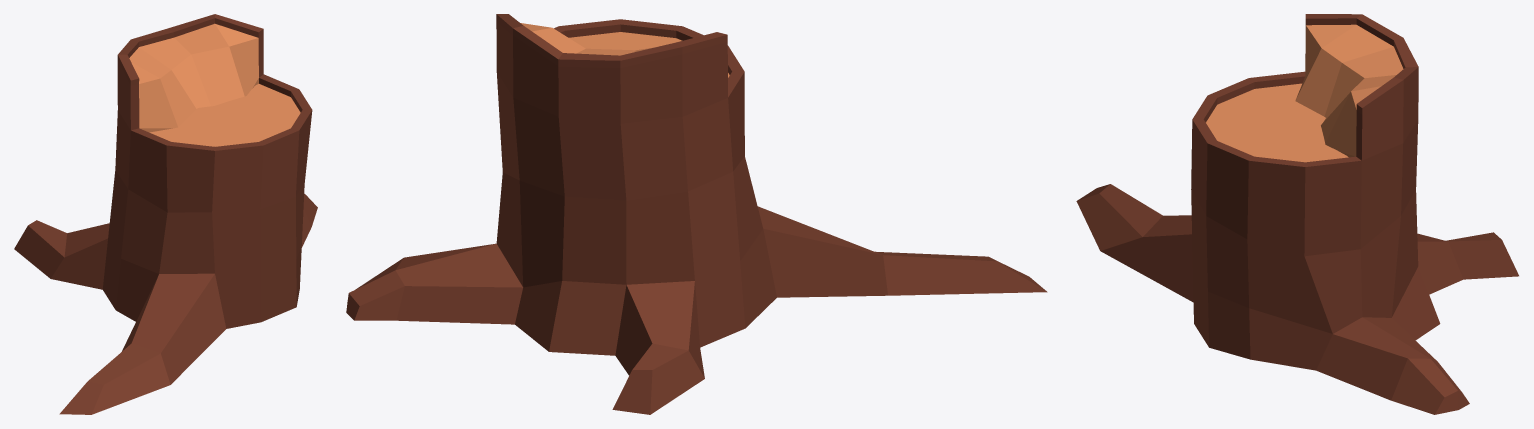
Rendered from pine_trunk_type_4_LOD0.fbx.
3 views of the same model, side by side, from view 1: azimuth 30°, elevation 25°; view 2: azimuth 150°, elevation 25°; view 3: azimuth 270°, elevation 25° (orthographic). The views are drawn at different scales.
Parts seen in each view (by area): view 1: Cylinder.001; view 2: Cylinder.001; view 3: Cylinder.001.
Boxes of the visible parts, box(x1,y1,x2,y2) form: Cylinder.001: box(14, 14, 317, 414); Cylinder.001: box(346, 14, 1047, 414); Cylinder.001: box(1076, 14, 1518, 414).
Size of the model in its own units: 480 by 265 by 392.
